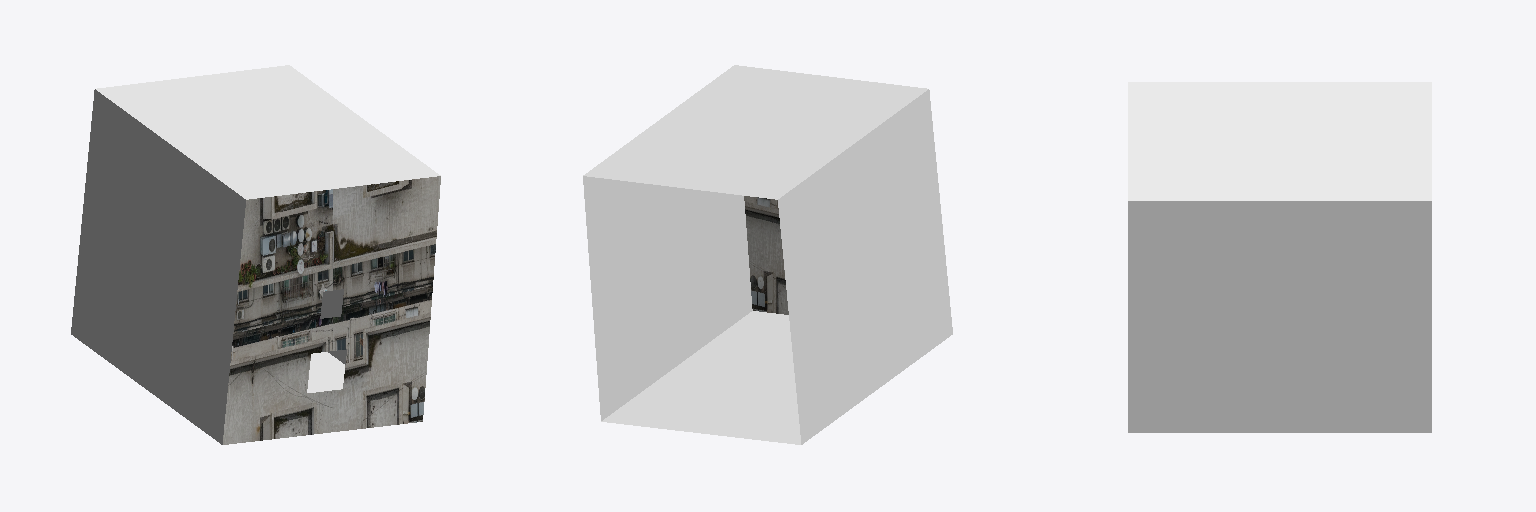
3 renders of one model, left to right at view 1: azimuth 30°, elevation 25°; view 2: azimuth 150°, elevation 25°; view 3: azimuth 270°, elevation 25°, orthographic.
Parts seen in each view (by area): view 1: Building; view 2: Building; view 3: Building.
Boxes of the visible parts, <box> form: Building: <box>71,65,440,444</box>; Building: <box>583,65,952,444</box>; Building: <box>1128,82,1431,432</box>.
Bounding box in the file's own units: 19.98 × 23.14 × 24.
2 materials, 1 textured.